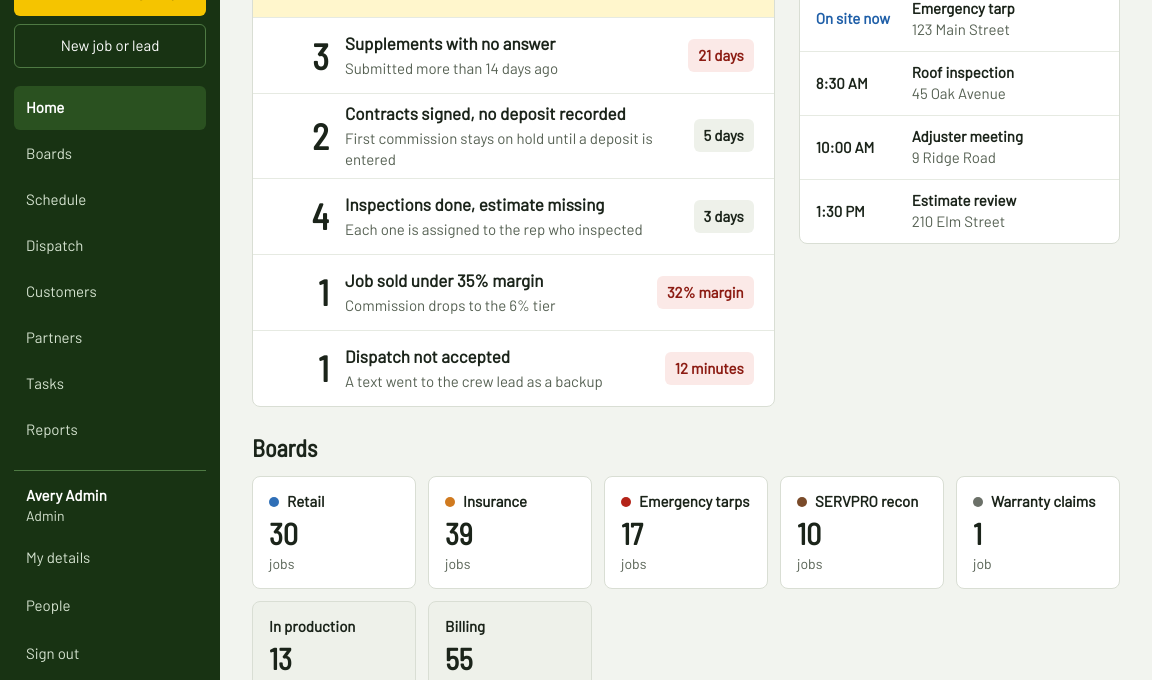
Test: People › lists everyone with their role, offices and status
(page scrolled)
Click the link "People" at (48, 605), box [26,596,70,614]
(page scrolled)
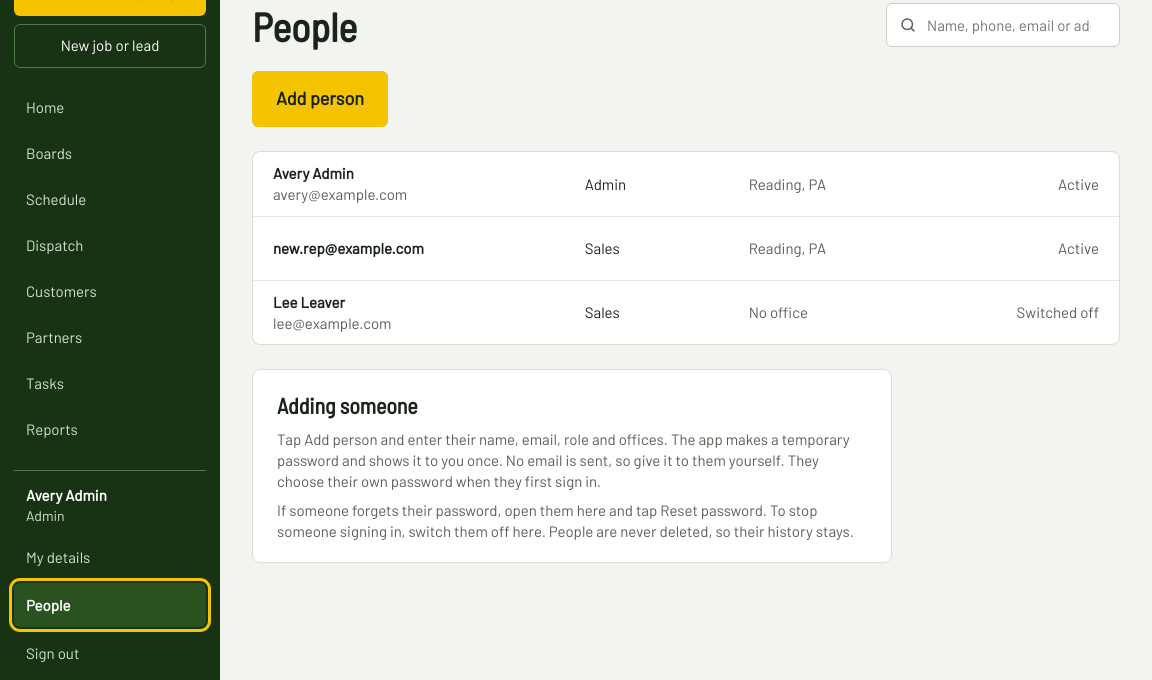
Now the link "Avery Admin avery@example.com Admin Reading, PA Active" is shown, box [253,152,1119,216]
Now the link "new.rep@example.com Sales Reading, PA Active" is shown, box [253,216,1119,280]
Now the link "Lee Leaver lee@example.com Sales No office Switched off" is shown, box [253,280,1119,344]
